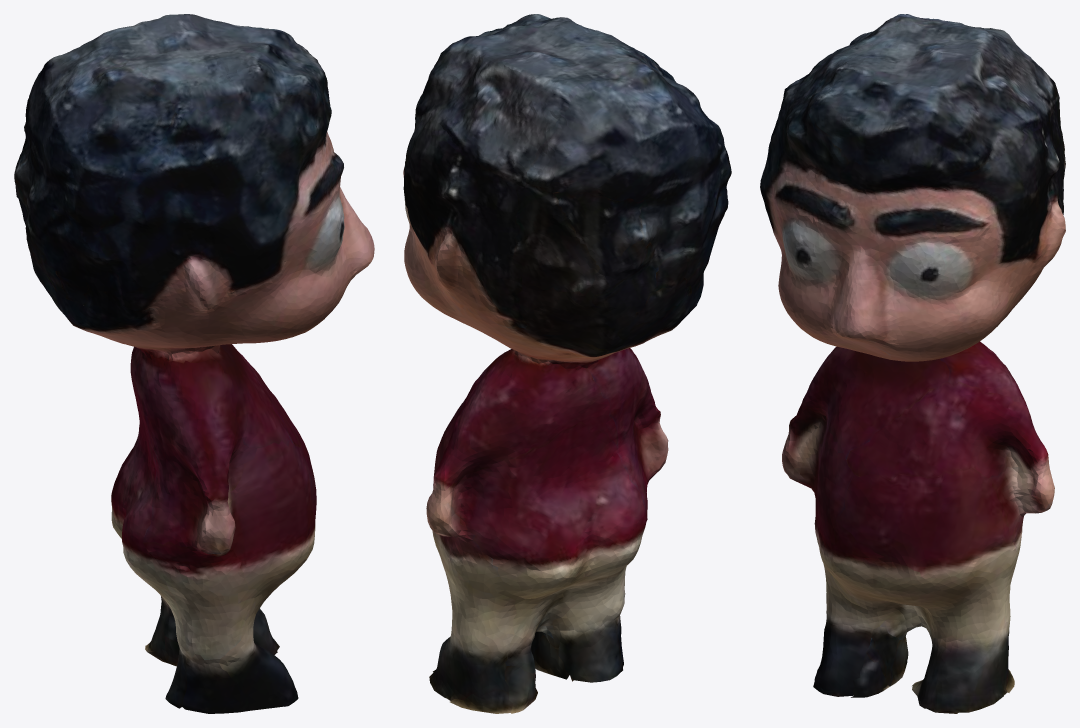
The model's file is Luigi good-2048.glb.
3 renders of one model, left to right at view 1: azimuth 30°, elevation 25°; view 2: azimuth 150°, elevation 25°; view 3: azimuth 270°, elevation 25°, orthographic. The views are drawn at different scales.
Bounding box in the file's own units: 0.0477 × 0.0953 × 0.0427.
1 material, 1 textured.
